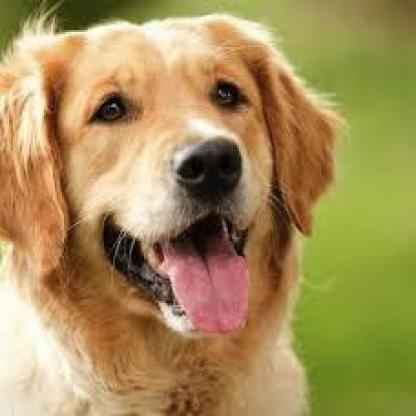cachorro: (2, 7, 360, 381)
